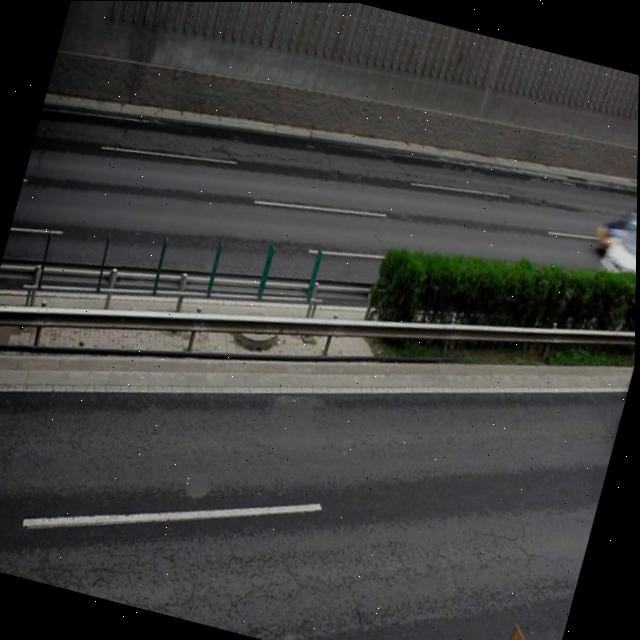car: (589, 195, 638, 268)
truck: (591, 205, 638, 303)
